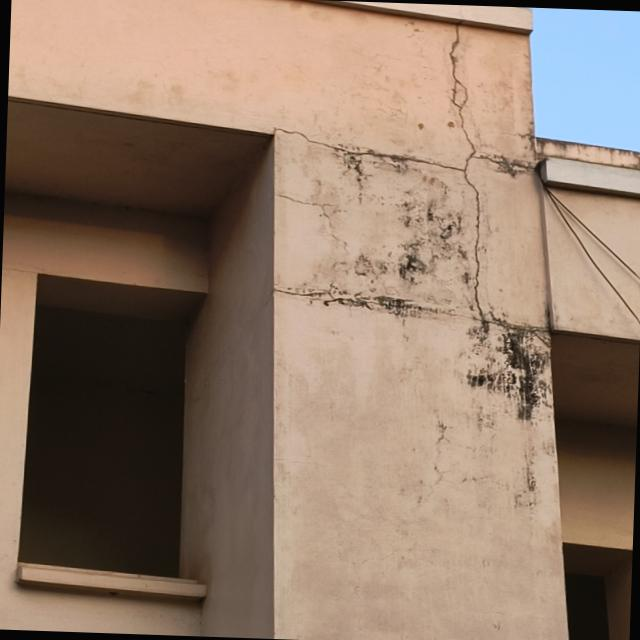Crack: (269, 18, 548, 339), (275, 192, 349, 255)
Moss growth due to damping: (331, 190, 473, 293), (465, 320, 552, 421), (330, 141, 449, 205), (282, 287, 455, 317), (534, 137, 640, 170)
